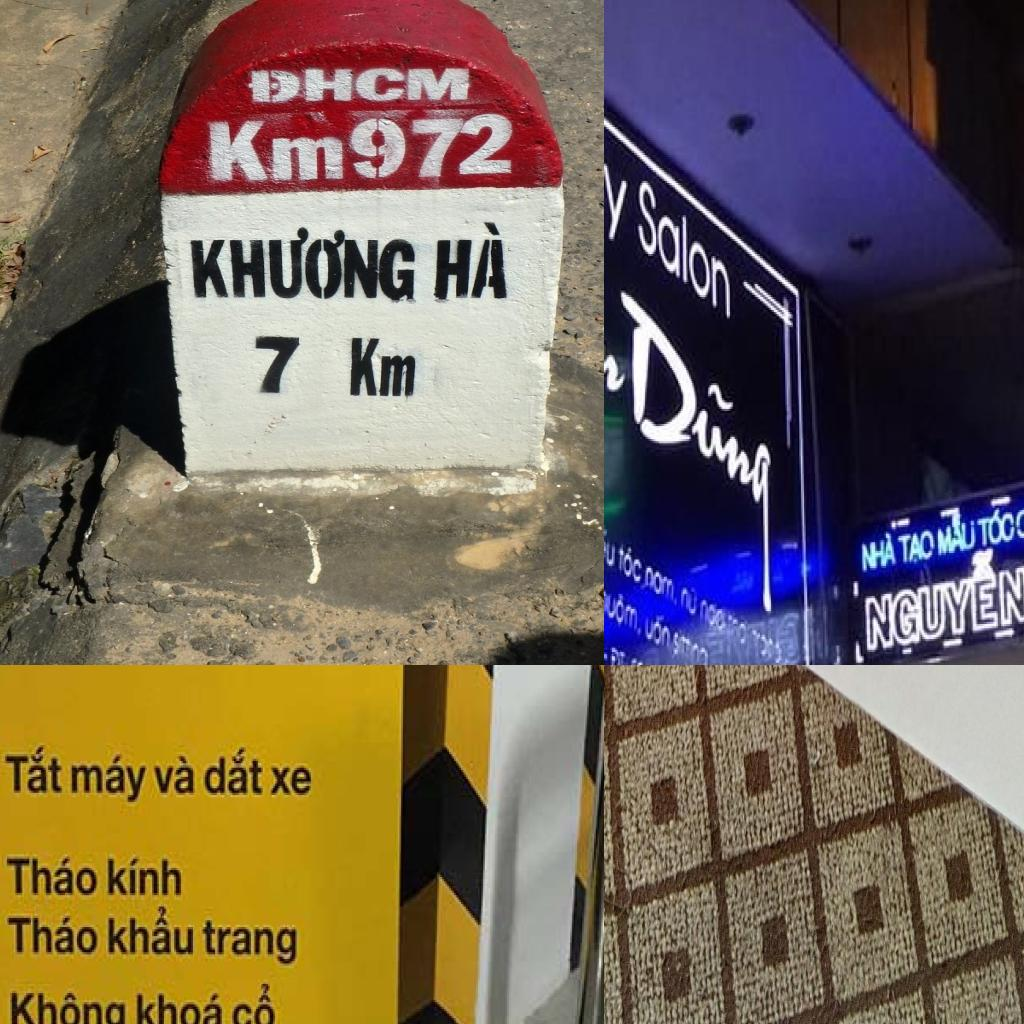text: (617, 286, 774, 622), (203, 108, 516, 184), (862, 538, 1024, 652), (187, 225, 419, 303), (636, 176, 734, 323), (244, 65, 476, 107), (433, 220, 511, 302), (604, 41, 635, 243), (106, 904, 198, 959), (203, 920, 299, 970), (5, 854, 101, 900), (70, 754, 154, 804), (7, 916, 101, 959), (10, 990, 128, 1024), (203, 742, 265, 800), (106, 856, 184, 900), (4, 743, 65, 797), (253, 335, 304, 395), (136, 990, 225, 1024), (604, 574, 646, 643), (935, 510, 977, 559), (230, 983, 280, 1024), (974, 506, 1017, 551), (154, 754, 198, 797), (268, 763, 316, 800), (897, 529, 936, 566), (861, 532, 897, 572), (617, 540, 645, 590), (645, 605, 673, 654), (645, 564, 676, 607), (680, 583, 698, 622), (604, 520, 618, 570), (608, 645, 629, 665)
